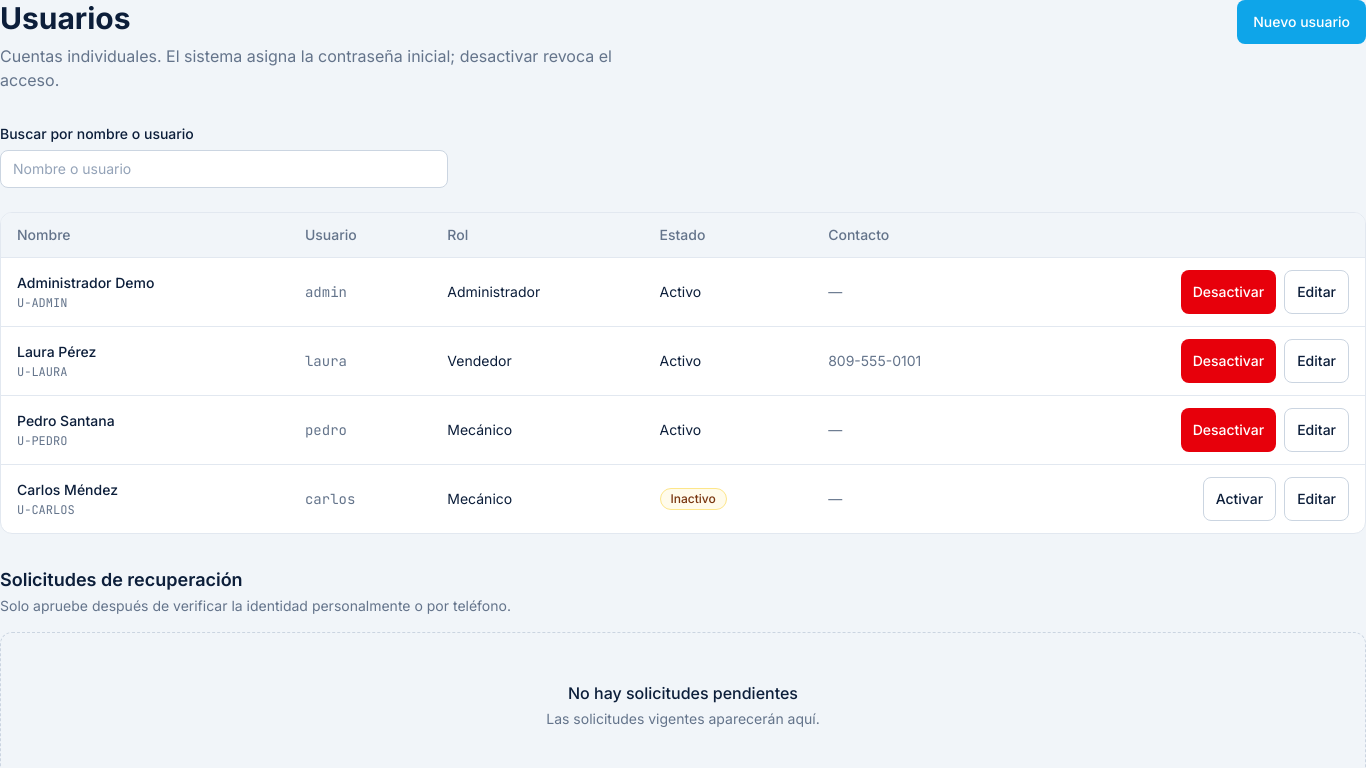
Scenario: UsersPage › deactivates only after confirmation
Expected: the text "Laura Pérez" is shown, [17, 343, 96, 360]
Click the button "Desactivar" in the row of "Laura Pérez": point(1228, 361) [1181, 339, 1276, 383]
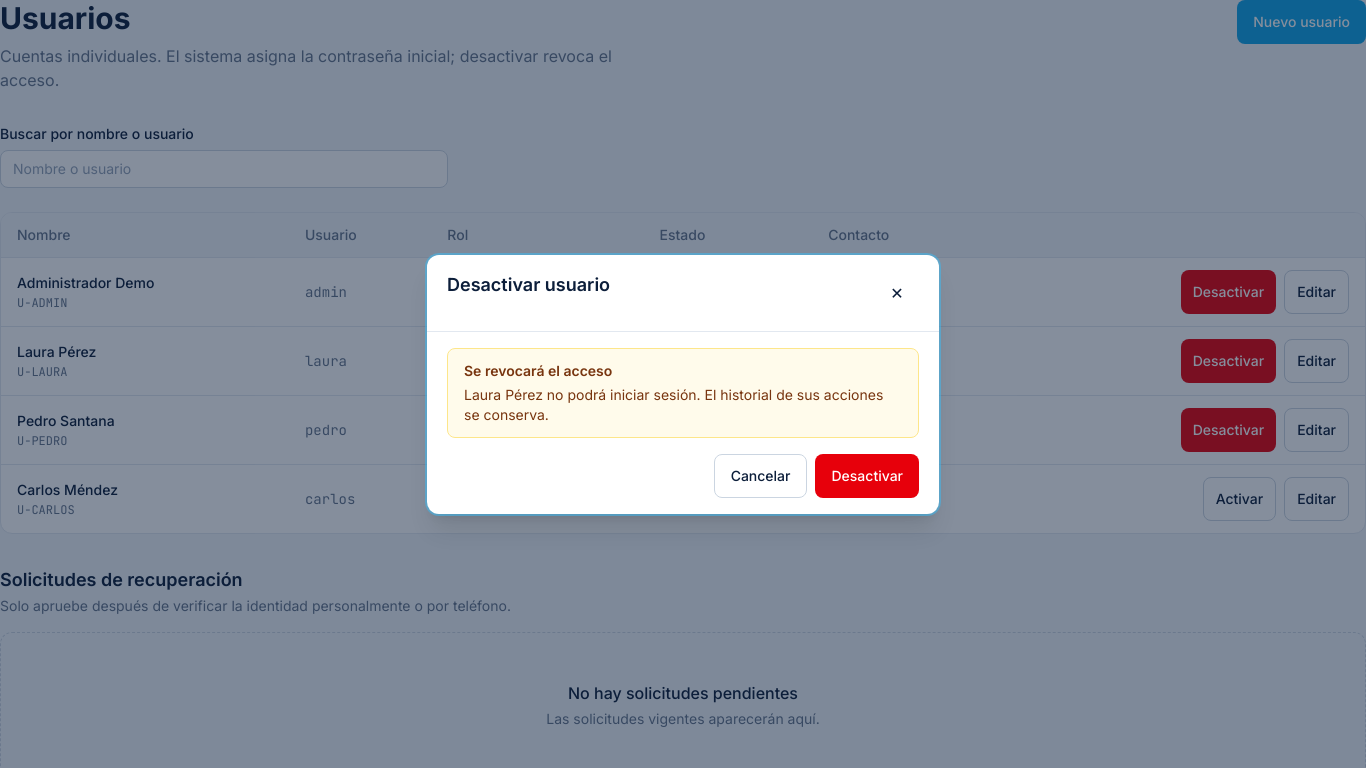
Click the button "Desactivar": point(867, 476) [816, 454, 919, 498]
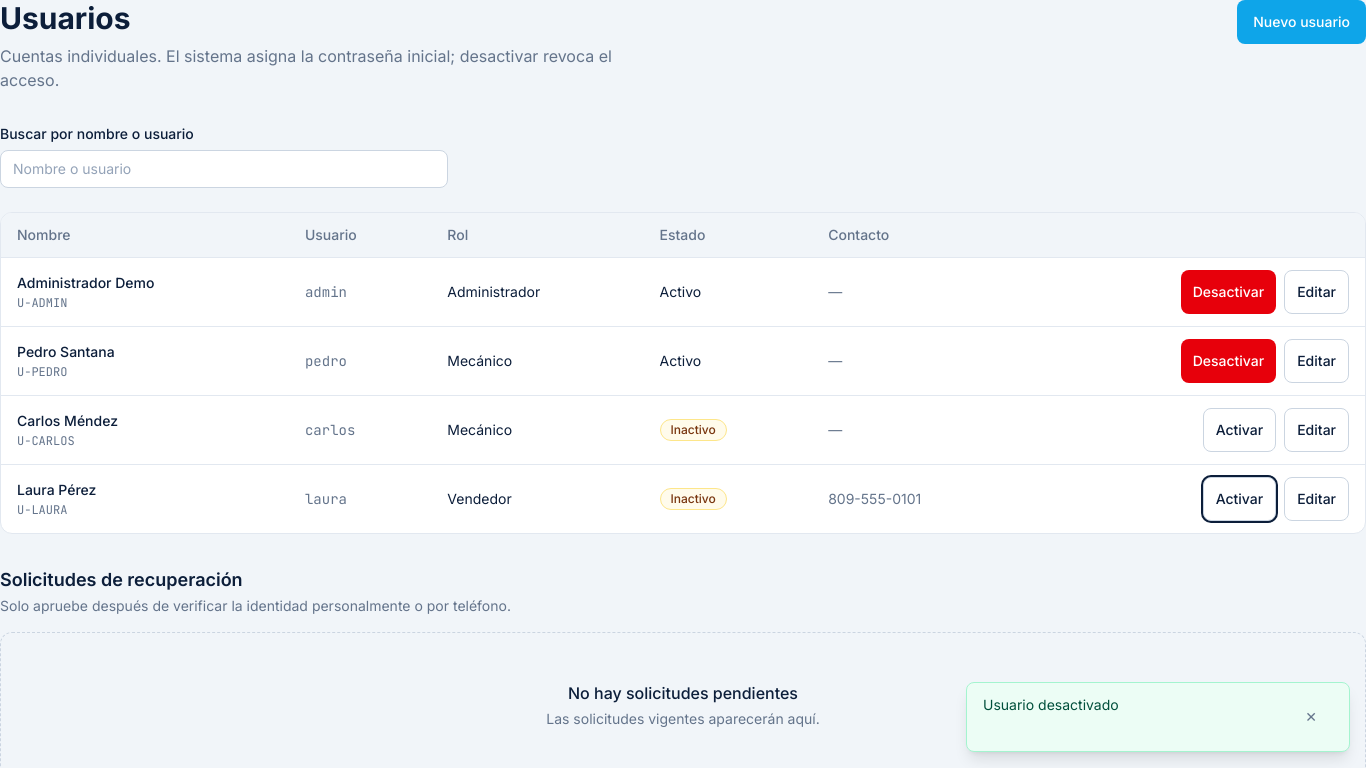
Expected: the button "Activar" in the row of "Laura Pérez" is shown, [1203, 477, 1276, 521]
Now the text "Usuario desactivado" is shown, box [983, 696, 1119, 713]
Now the text "Inactivo" in the row of "Laura Pérez" is shown, box [670, 491, 716, 506]
